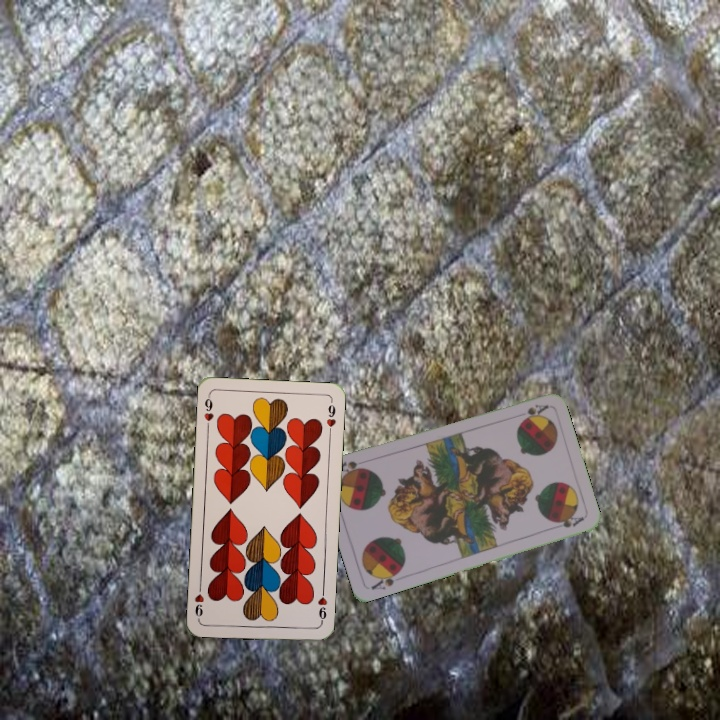H9: (200, 392, 216, 432), (314, 586, 330, 626)
SA: (367, 566, 404, 592), (519, 400, 550, 422)
